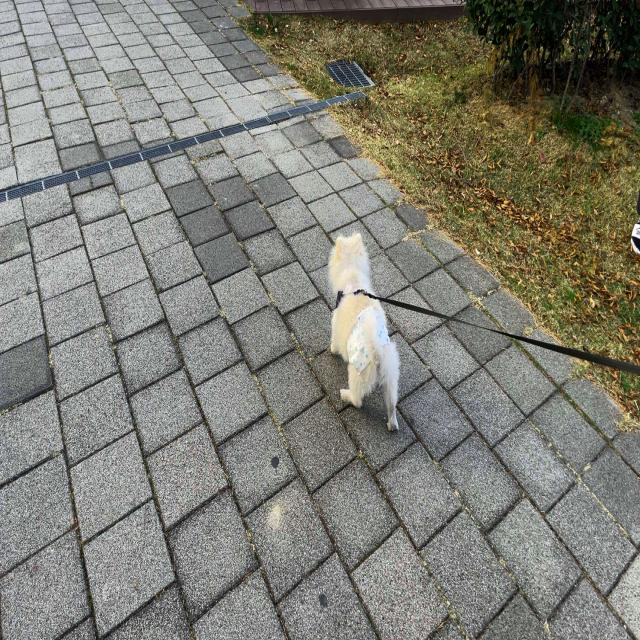Dog: (327, 230, 401, 433)
